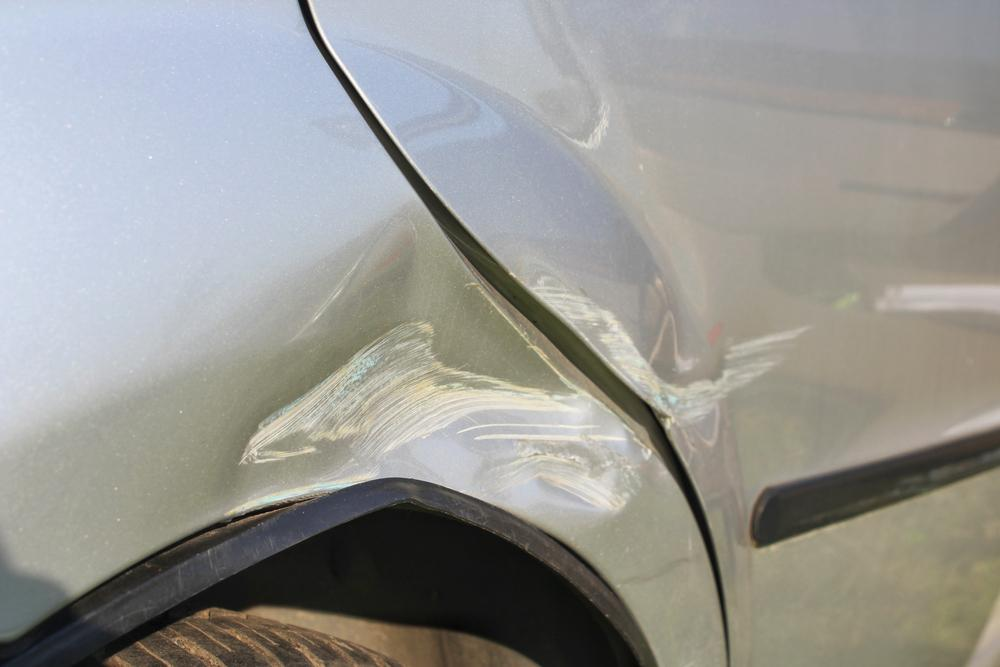dent: (218, 196, 641, 535), (479, 112, 777, 456)
